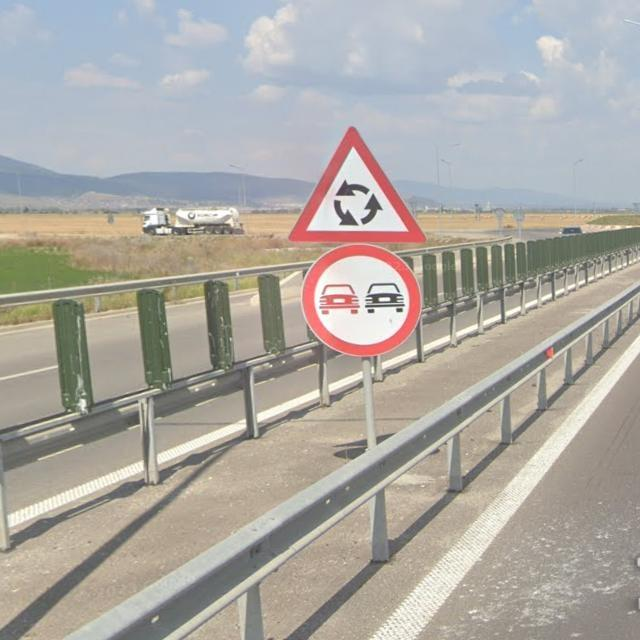forb_overtake: (299, 247, 421, 360)
